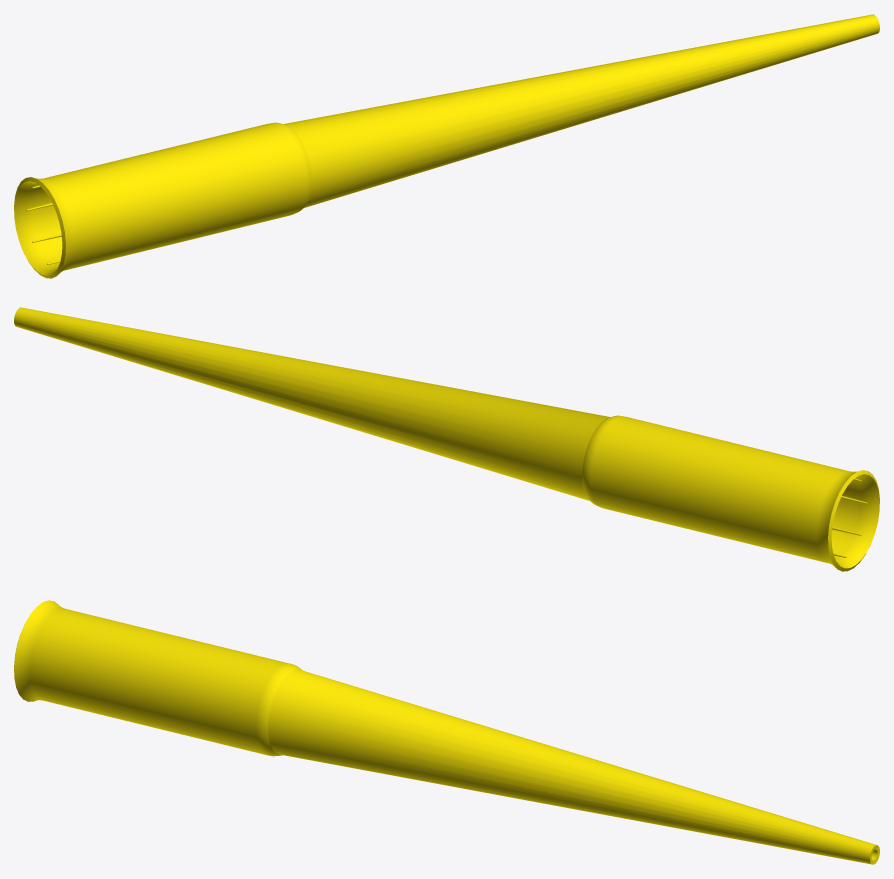
The model's file is PippetteTip.fbx.
3 views of the same model, one above another, from view 1: azimuth 30°, elevation 25°; view 2: azimuth 150°, elevation 25°; view 3: azimuth 330°, elevation 25° (orthographic).
Visible parts, largest first — view 1: Cylinder001; view 2: Cylinder001; view 3: Cylinder001.
Part boxes in pixels (x1,y1,x2,y2): Cylinder001: (14, 14, 879, 278); Cylinder001: (14, 307, 879, 571); Cylinder001: (14, 600, 879, 864).
Bounding box in the file's own units: 3.43 × 0.3683 × 0.369.
